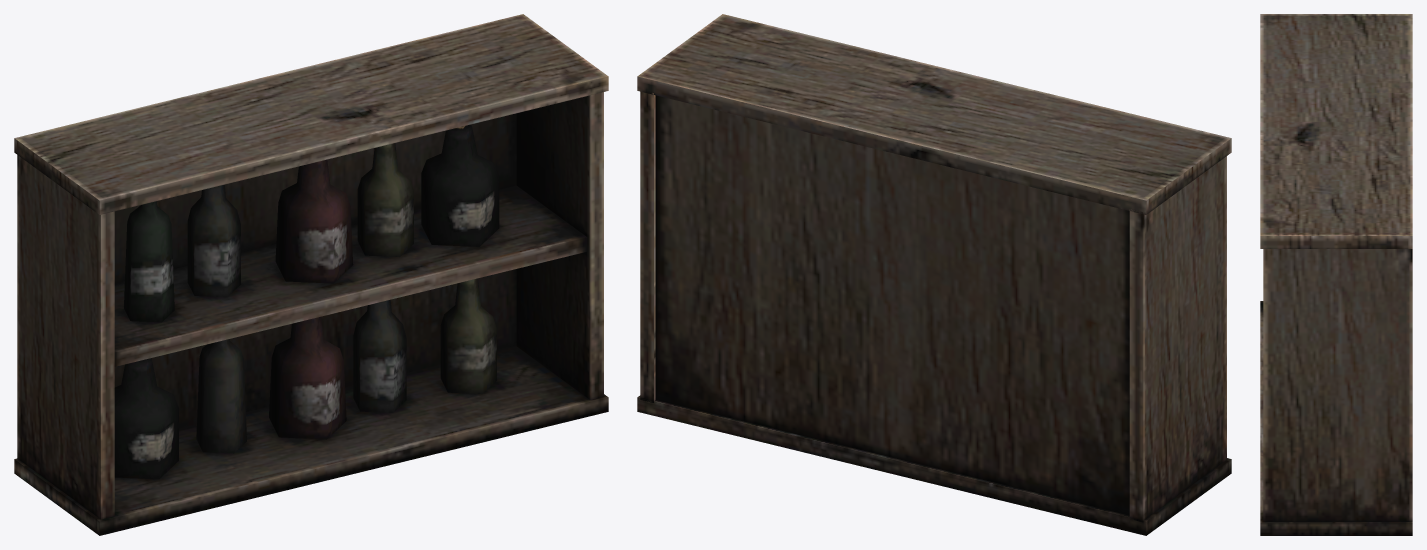
The model's file is chemestry_shelf_small.dae.
3 renders of one model, left to right at view 1: azimuth 30°, elevation 25°; view 2: azimuth 150°, elevation 25°; view 3: azimuth 270°, elevation 25°, orthographic. The views are drawn at different scales.
Visible parts, largest first — view 1: polySurface8; view 2: polySurface8; view 3: polySurface8.
Part boxes in pixels (x1=…): polySurface8: x1=14, y1=14, x2=608, y2=535; polySurface8: x1=637, y1=14, x2=1231, y2=535; polySurface8: x1=1260, y1=14, x2=1412, y2=535.
Size of the model in its own units: 1.3 by 0.8185 by 0.3775.
